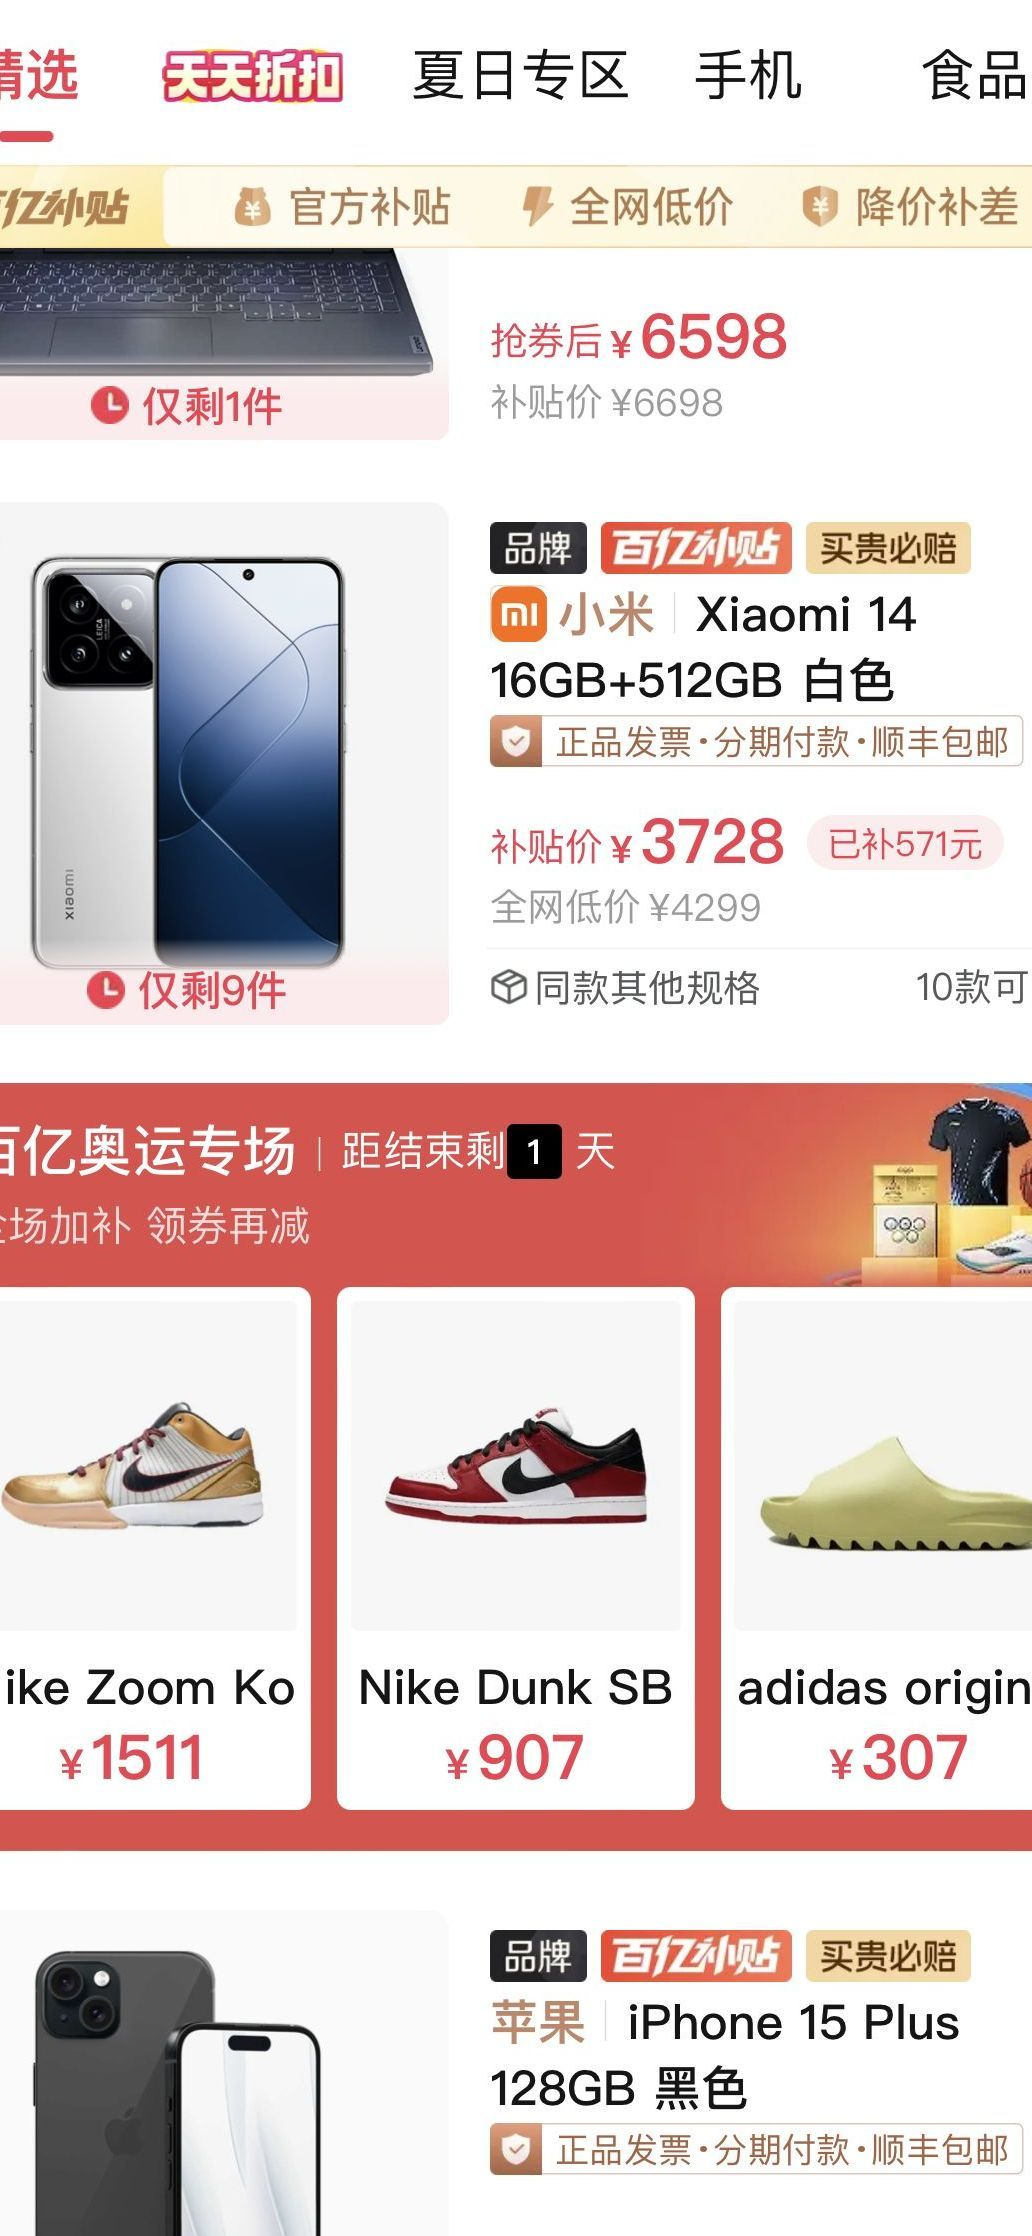banner: (1, 1075, 1032, 1855)
item: (1, 498, 1031, 1035)
